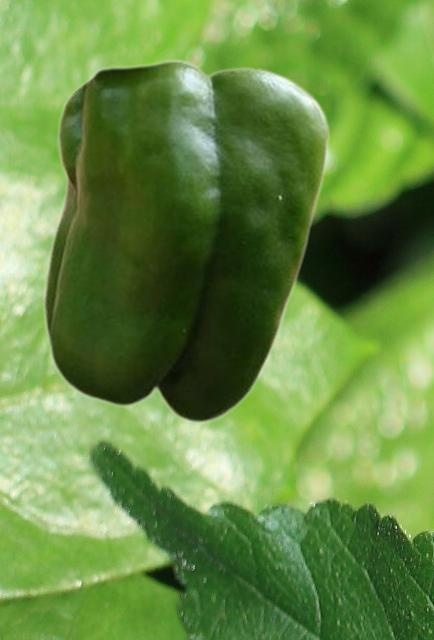bell_pepper: (42, 58, 330, 423)
